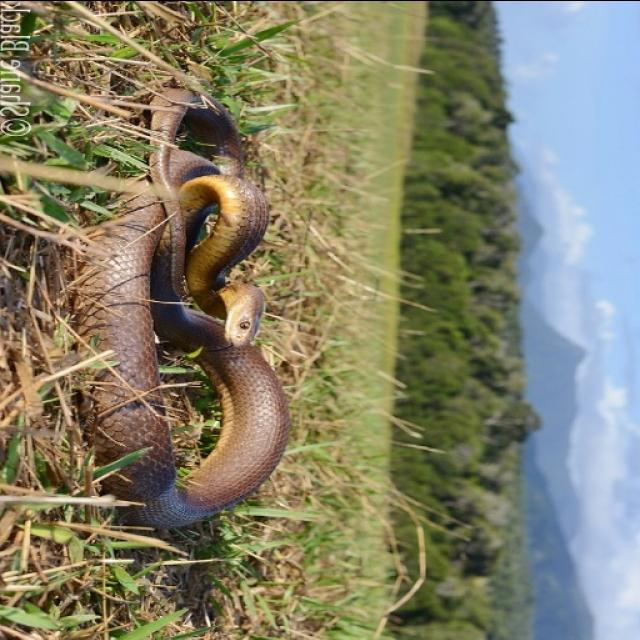snake: (74, 78, 304, 546)
